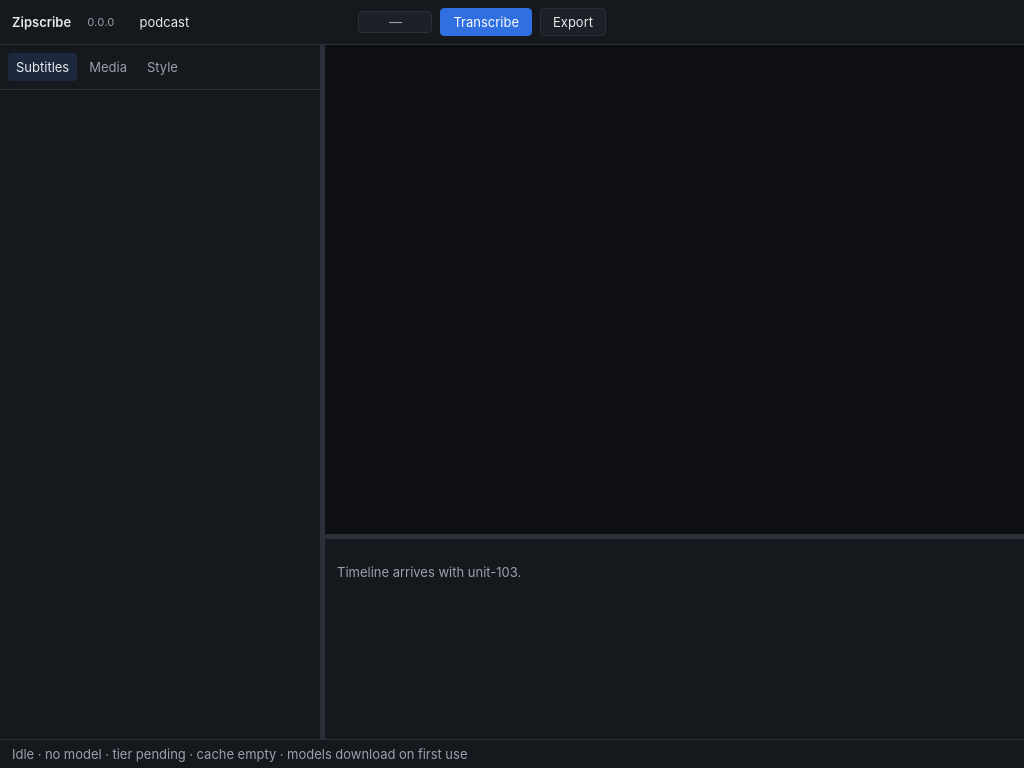
Test case: CC-107.8: audio-project UI › CC-107.8: audio sample-rate/channels rows degrade honestly when the probe lacked them
This screenshot has width=1024, height=768.
Step 1. Click the tab with test id "tab-media" → coordinates (108, 67), box [81, 53, 135, 81]
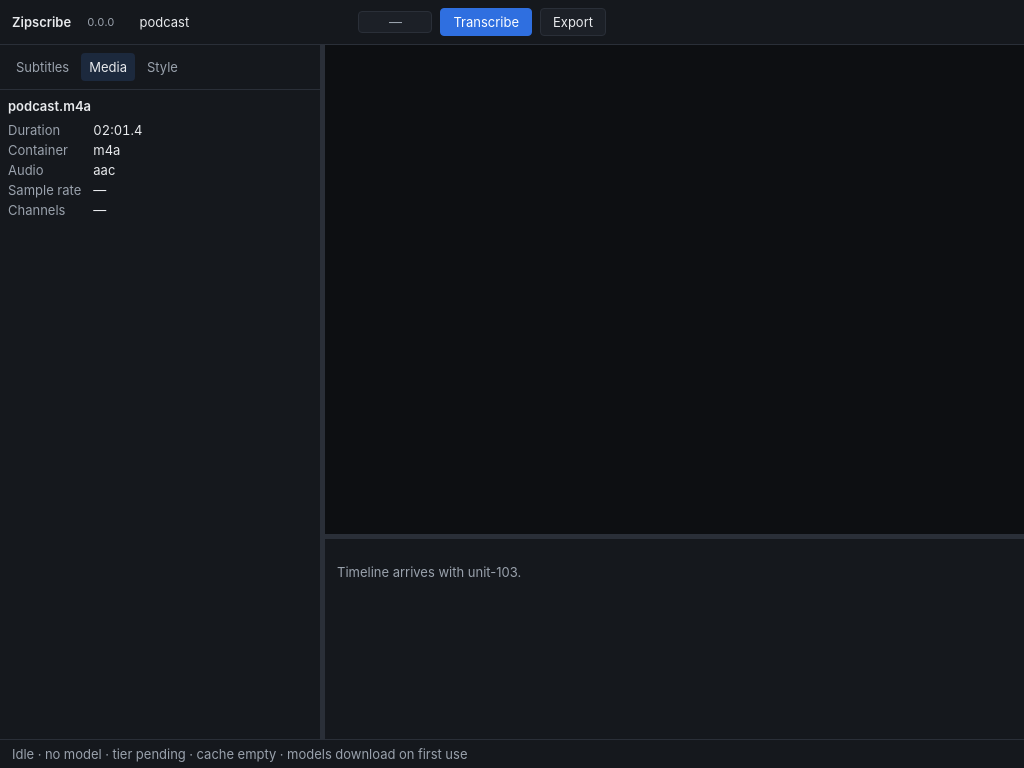
Now the element with test id "media-asset-card" shows "—", box [93, 182, 106, 198]
